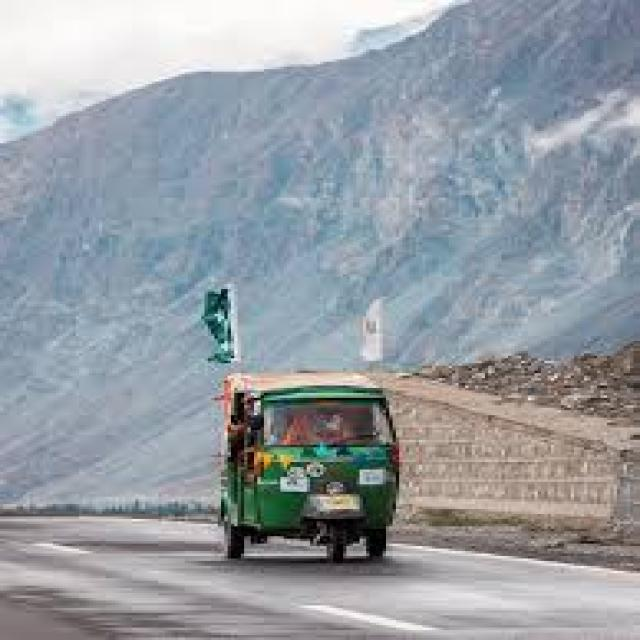tuktuk: (152, 329, 504, 636)
